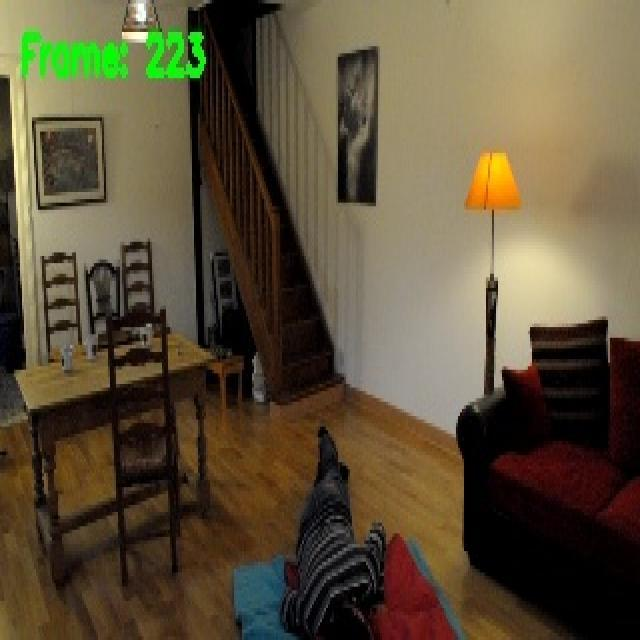fall: (280, 414, 388, 640)
